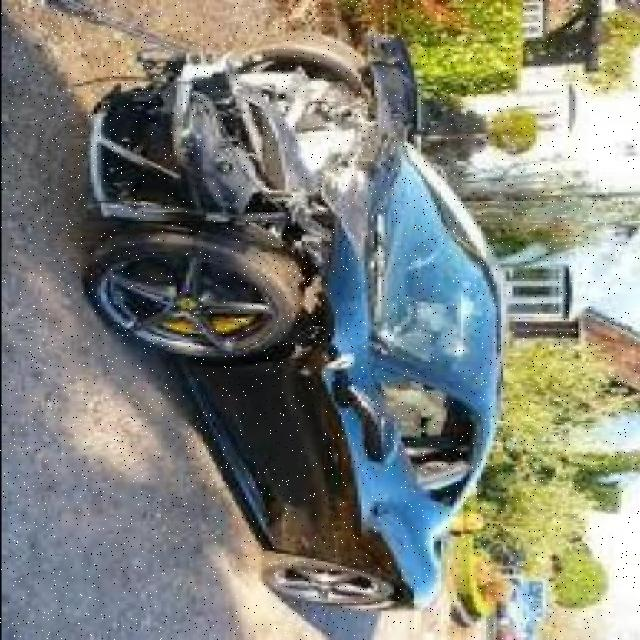damage: (78, 37, 424, 355)
